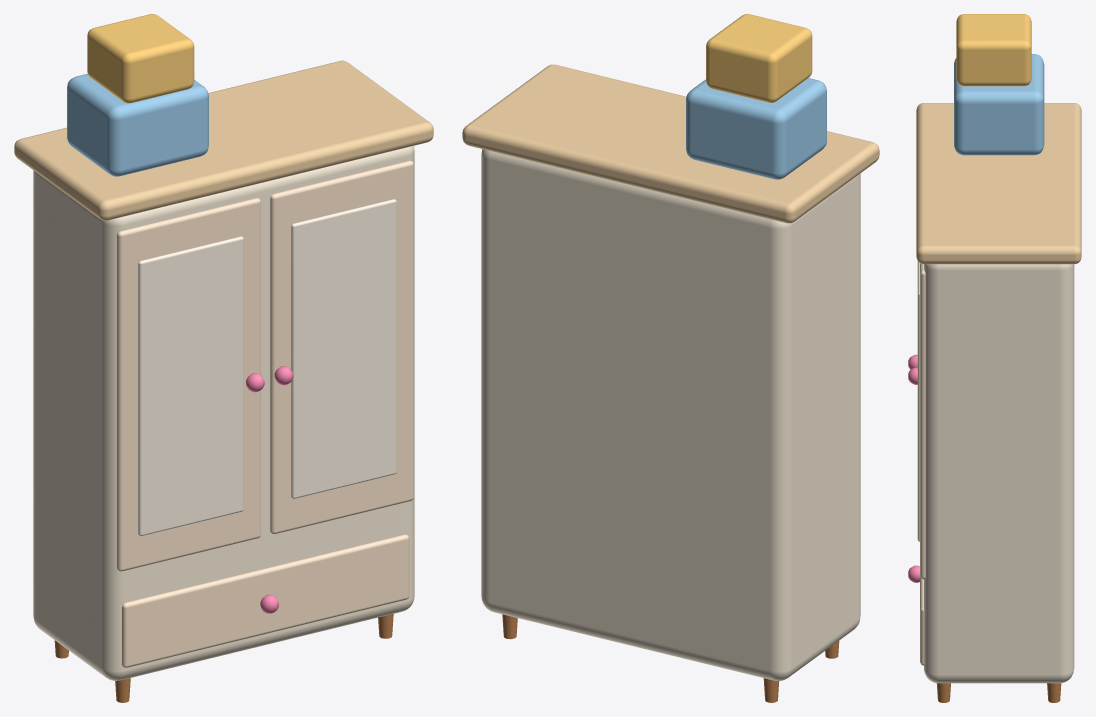
Rendered from closet.glb.
The picture shows the model from 3 angles, left to right: view 1: azimuth 30°, elevation 25°; view 2: azimuth 150°, elevation 25°; view 3: azimuth 270°, elevation 25°; orthographic projection. The views are drawn at different scales.
Size of the model in its own units: 1.4 by 2.54 by 0.6925.
